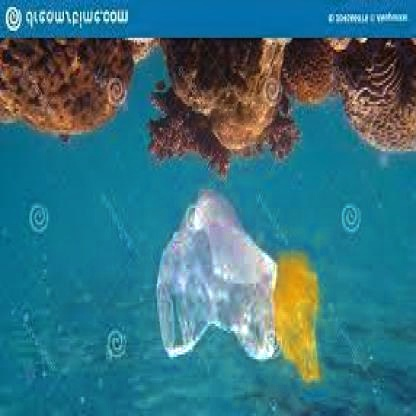pbag: (156, 189, 276, 364), (272, 250, 323, 383)
